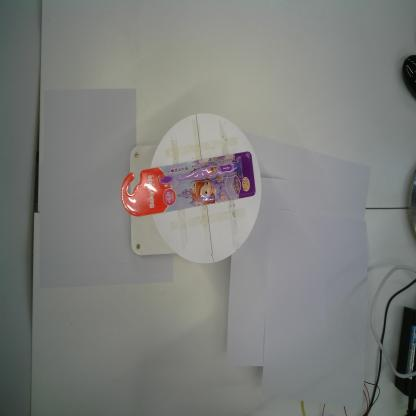Personal Hygiene: (121, 151, 256, 217)
